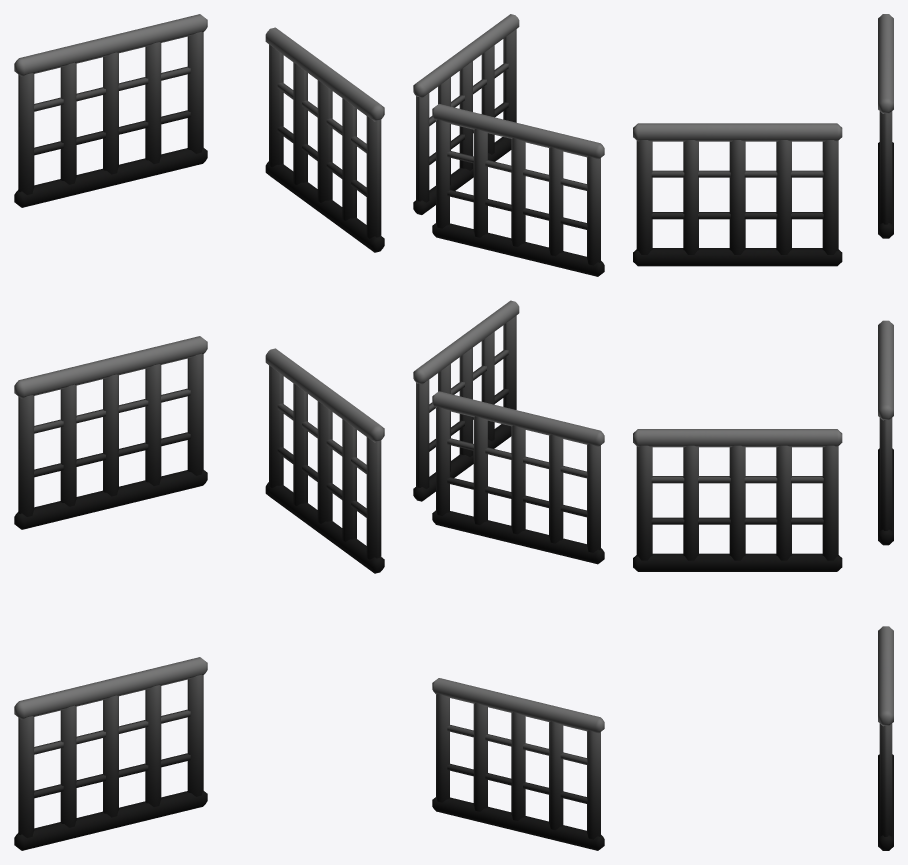
Rendered from SM_Wood_Window_04.fbx.
3 renders of one model, left to right at view 1: azimuth 30°, elevation 25°; view 2: azimuth 150°, elevation 25°; view 3: azimuth 270°, elevation 25°, orthographic. The views are drawn at different scales.
Visible parts, largest first — view 1: SM_Wood_Window_04; view 2: SM_Wood_Window_04; view 3: SM_Wood_Window_04.
Boxes of the visible parts, x1,y1,x2,y2 form: SM_Wood_Window_04: [14, 14, 384, 850]; SM_Wood_Window_04: [413, 14, 604, 850]; SM_Wood_Window_04: [633, 14, 893, 850].
Size of the model in its own units: 0.7766 by 2.46 by 0.772.
